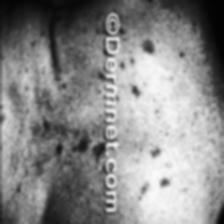Non-Cancerous Skin Condition: (130, 46, 200, 204), (41, 106, 99, 200)
